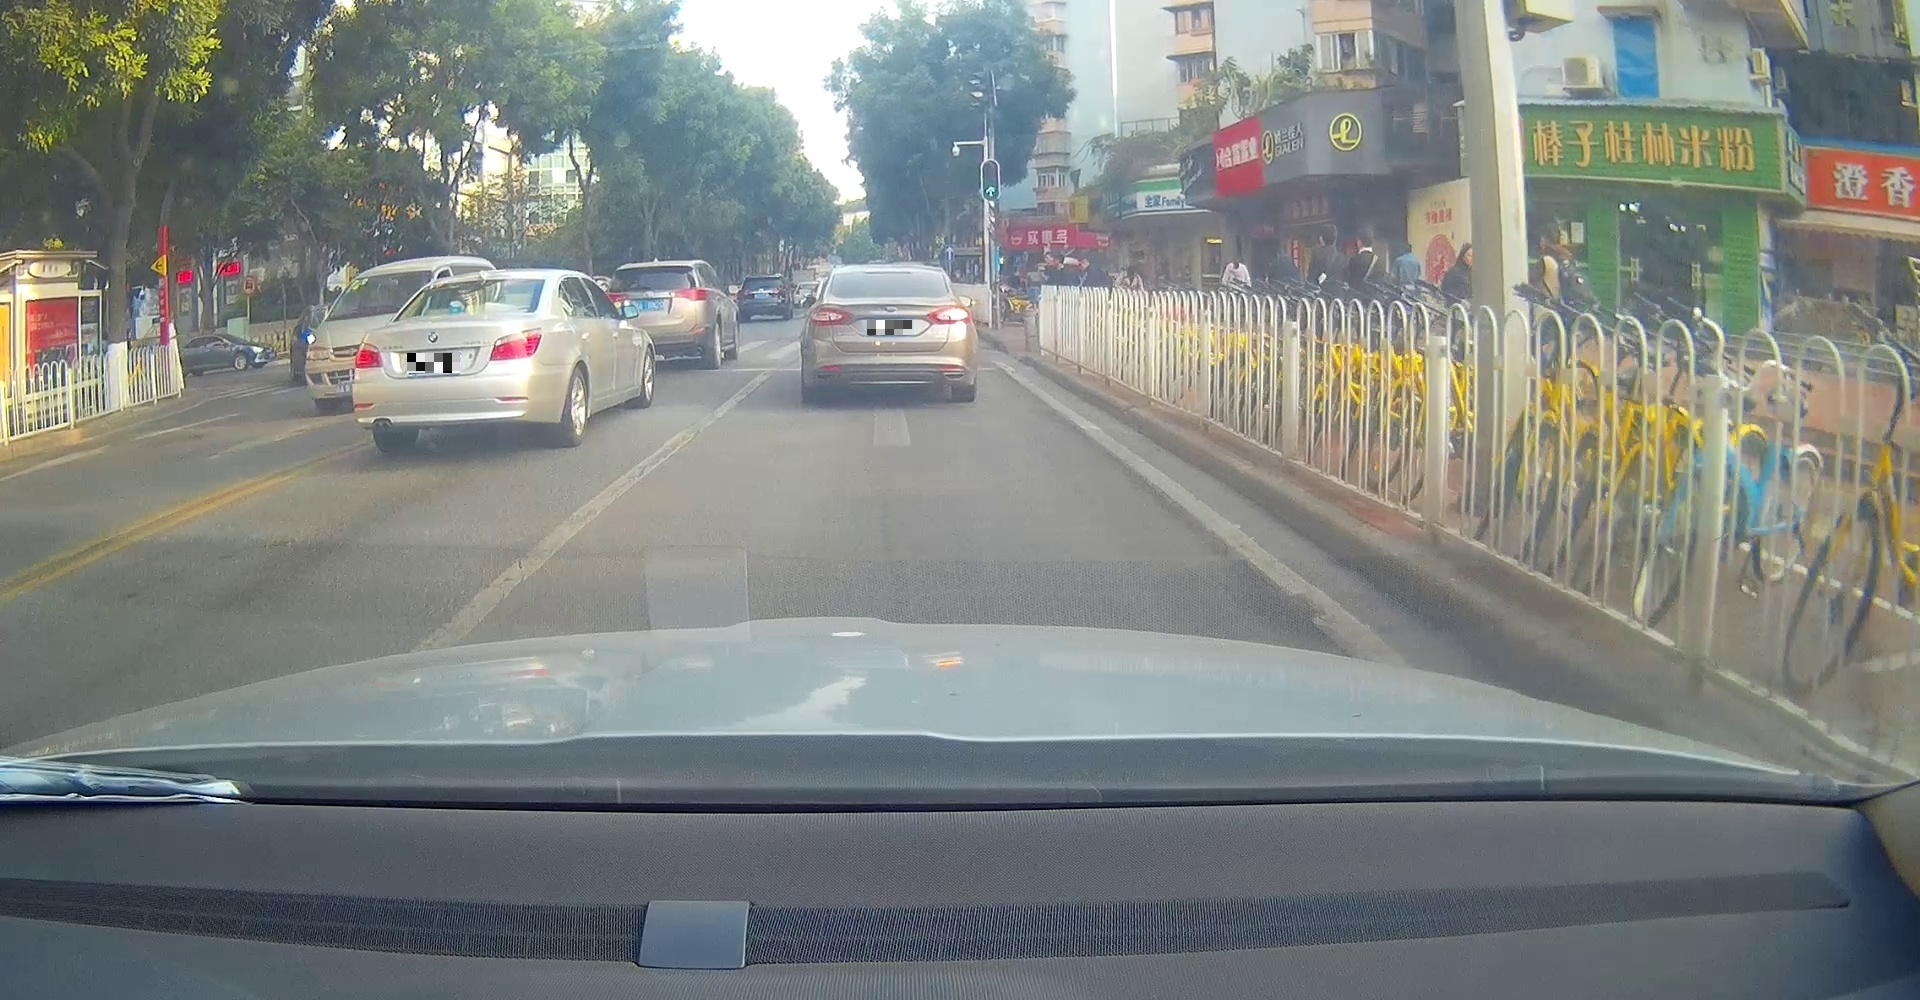L_light: (810, 306, 853, 325), (354, 343, 382, 368)
R_light: (488, 327, 543, 362), (927, 306, 970, 324)
T_light: (462, 282, 491, 289), (876, 273, 905, 278)
day-no: (352, 269, 555, 452)
day-right: (808, 265, 973, 402)
plate_1: (408, 353, 460, 373)
plate_2: (867, 320, 913, 335)
